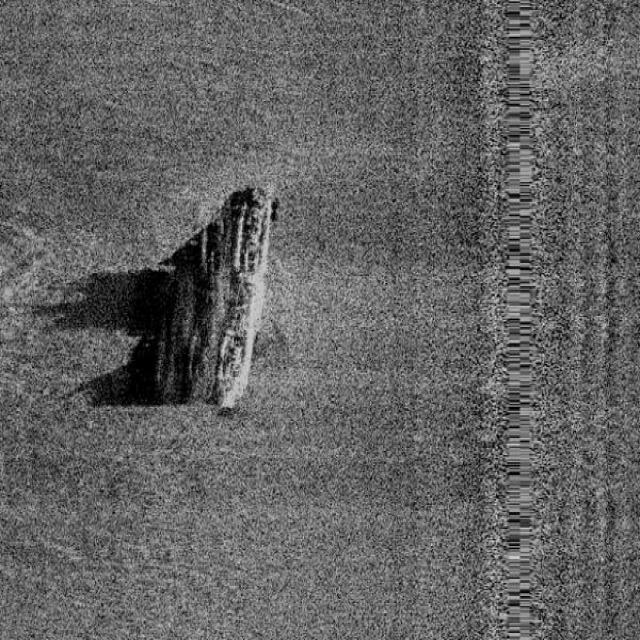ship: (202, 182, 271, 408)
